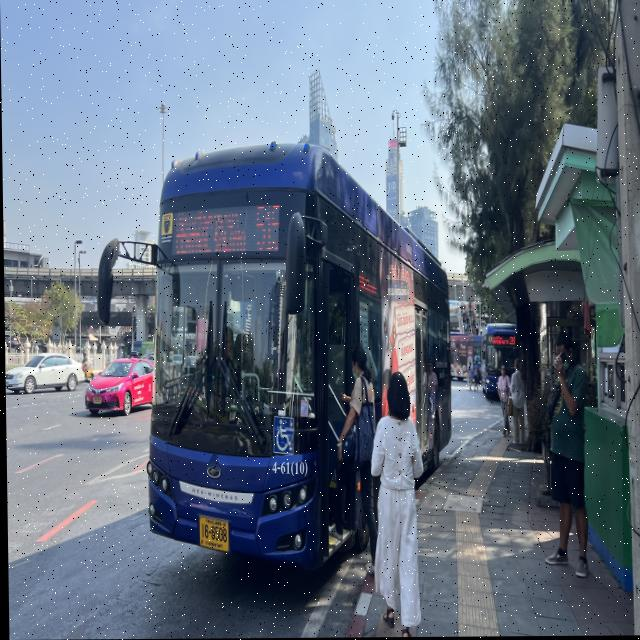Bus Line Number: (253, 199, 286, 256)
Bus Side Number: (267, 458, 307, 483)
Destination Sign: (168, 203, 249, 259)
TSB-Bus: (145, 143, 450, 575)
